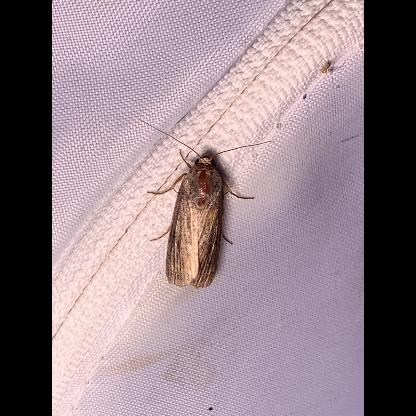Fall Armyworm Moth: (137, 116, 277, 290)
